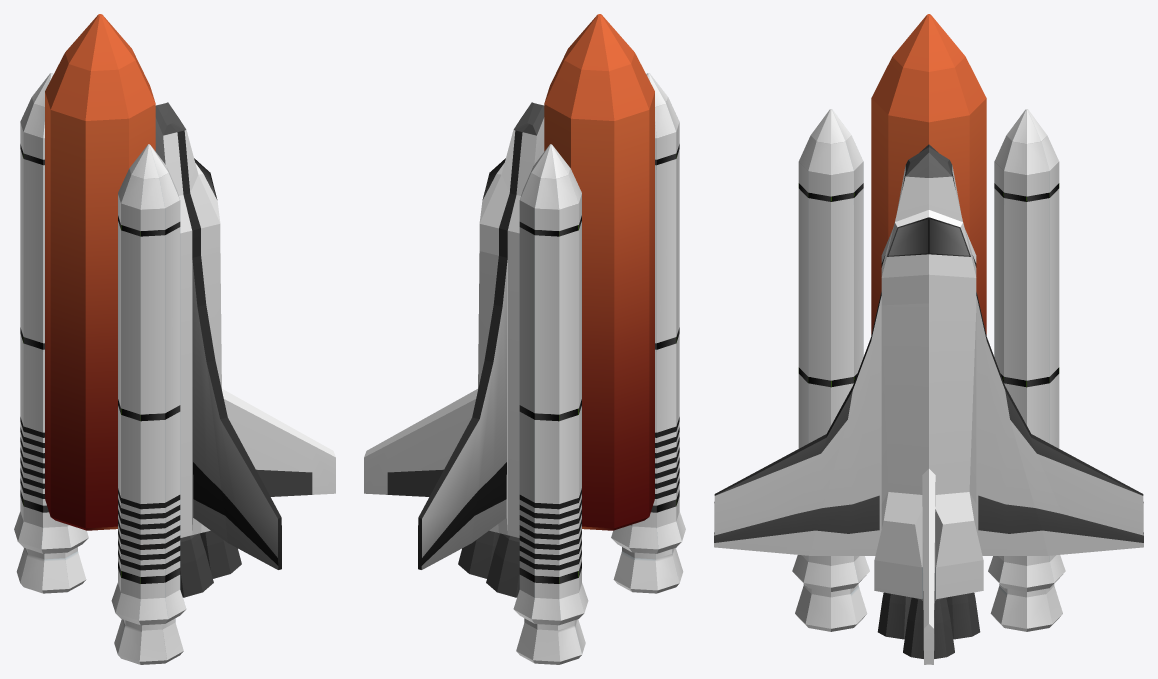
The model's file is SPACE SHUTTLE_modified.glb.
The picture shows the model from 3 angles, left to right: view 1: azimuth 30°, elevation 25°; view 2: azimuth 150°, elevation 25°; view 3: azimuth 270°, elevation 25°; orthographic projection.
Visible parts, largest first — view 1: ROCKET BODY, SPACE SHUTTLE, SIDE THRUSTER(LEFT), SIDE THRUSTER (RIGHT); view 2: ROCKET BODY, SPACE SHUTTLE, SIDE THRUSTER (RIGHT), SIDE THRUSTER(LEFT); view 3: SPACE SHUTTLE, SIDE THRUSTER(LEFT), SIDE THRUSTER (RIGHT), ROCKET BODY.
Boxes of the visible parts, left/top/right/bottom form: ROCKET BODY: left=45, top=14, right=155, bottom=530; SPACE SHUTTLE: left=155, top=102, right=335, bottom=597; SIDE THRUSTER(LEFT): left=111, top=144, right=186, bottom=664; SIDE THRUSTER (RIGHT): left=14, top=73, right=88, bottom=593; ROCKET BODY: left=544, top=14, right=654, bottom=530; SPACE SHUTTLE: left=364, top=102, right=544, bottom=597; SIDE THRUSTER (RIGHT): left=513, top=144, right=588, bottom=664; SIDE THRUSTER(LEFT): left=611, top=73, right=685, bottom=593; SPACE SHUTTLE: left=714, top=144, right=1143, bottom=664; SIDE THRUSTER(LEFT): left=792, top=109, right=869, bottom=631; SIDE THRUSTER (RIGHT): left=988, top=109, right=1065, bottom=631; ROCKET BODY: left=871, top=14, right=986, bottom=334.
Bounding box in the file's own units: 7.52 × 15.28 × 9.87.
1 material, 1 textured.
